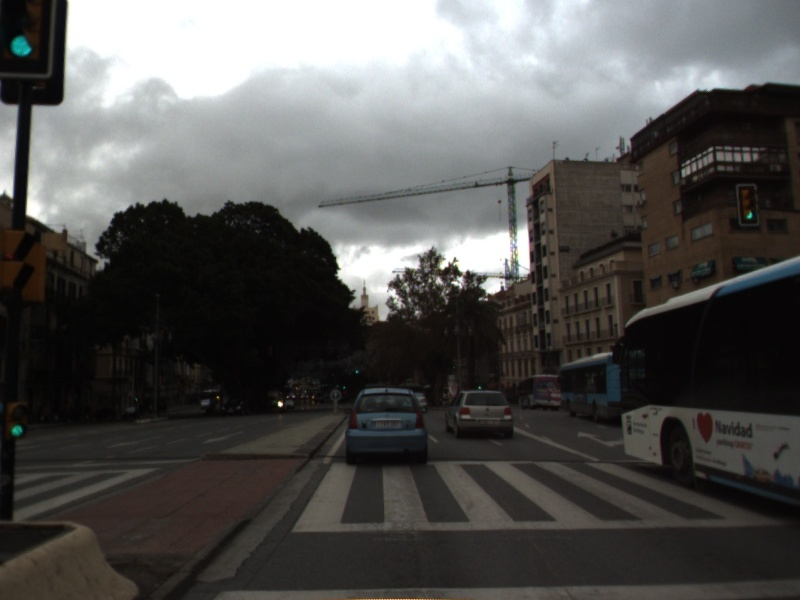STRAIGHT_RIGHT: (575, 429, 625, 449)
